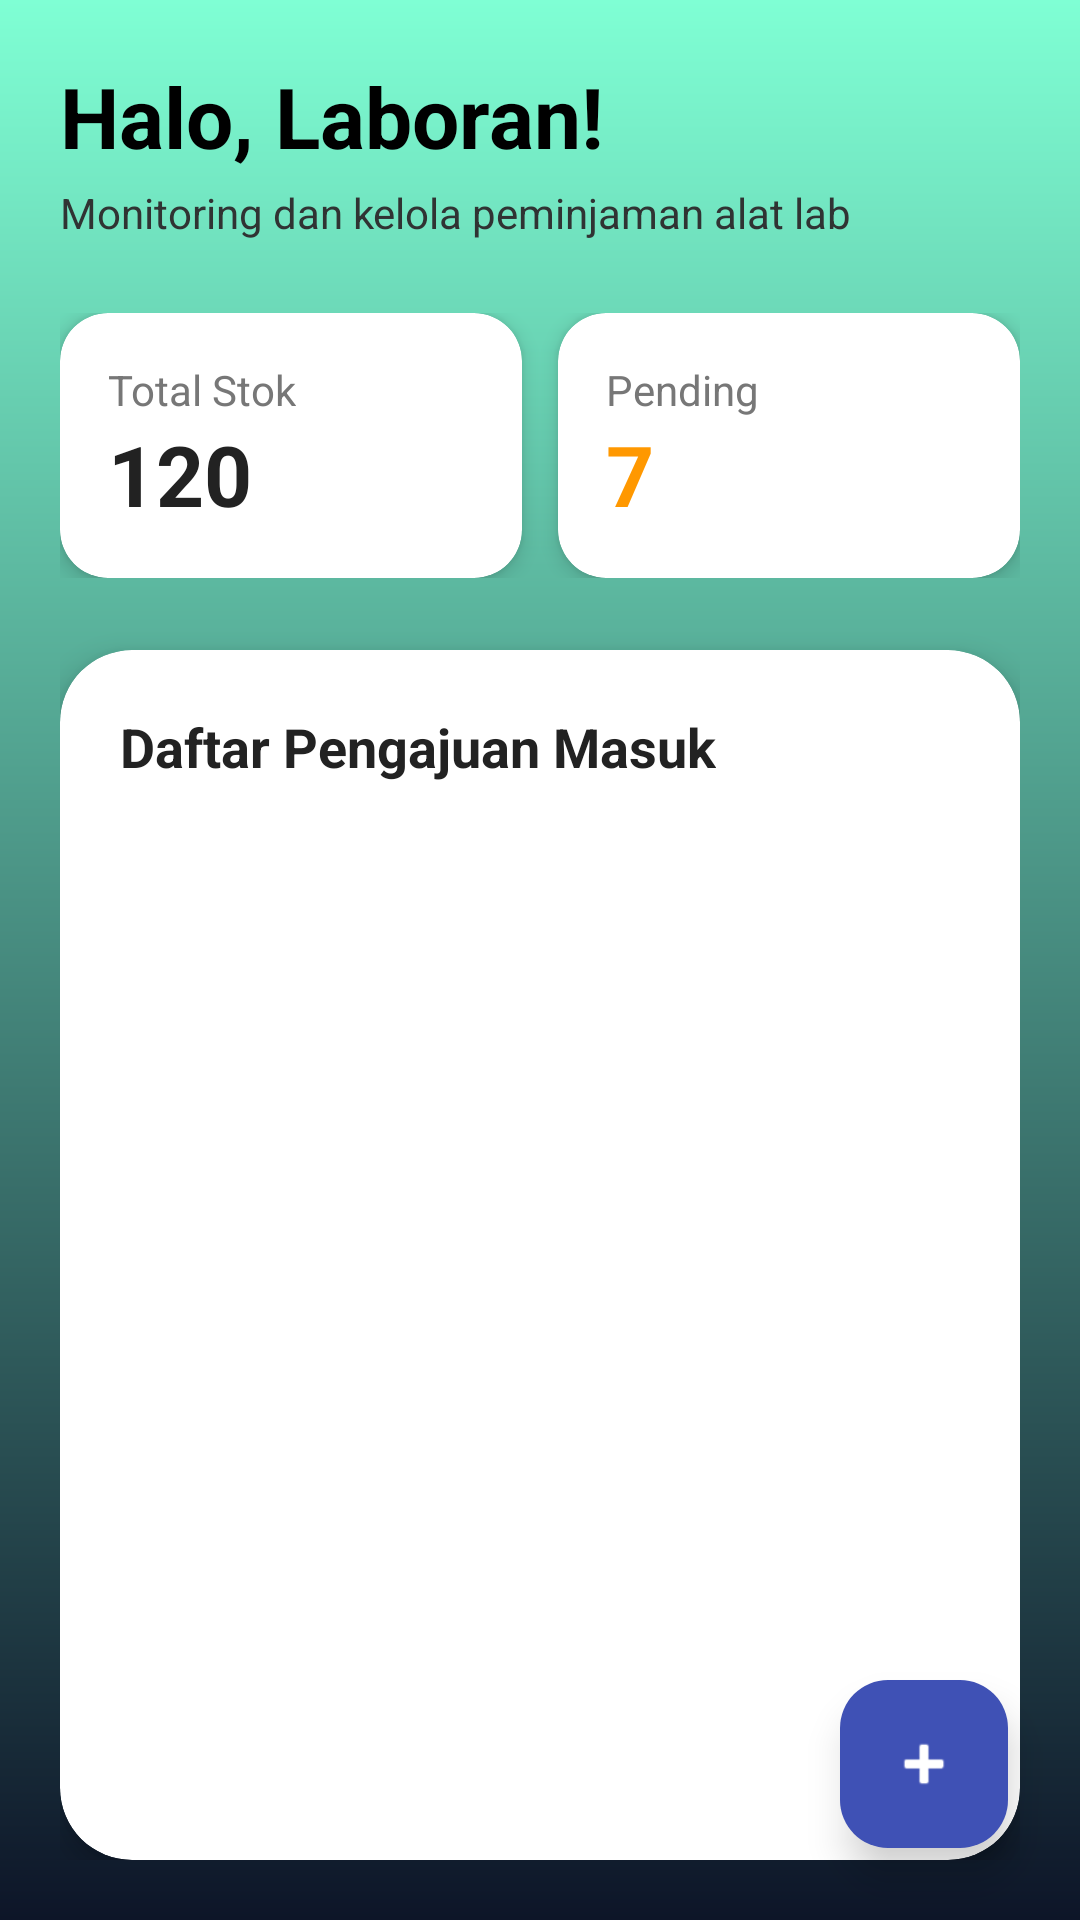

Where to tap for icons on this 1080px x 1920px app screen, as point (x, y):
Tombol Tambah Alat: point (924, 1764)
